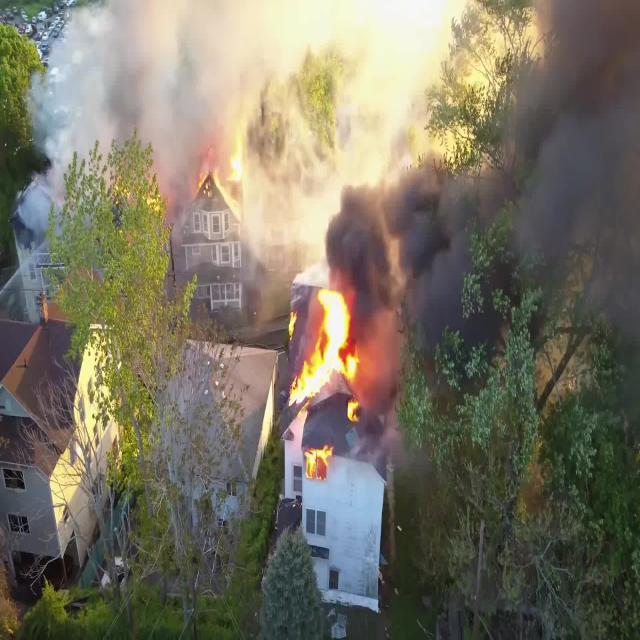Fire: (282, 281, 358, 483)
Smoke: (21, 0, 640, 464)
